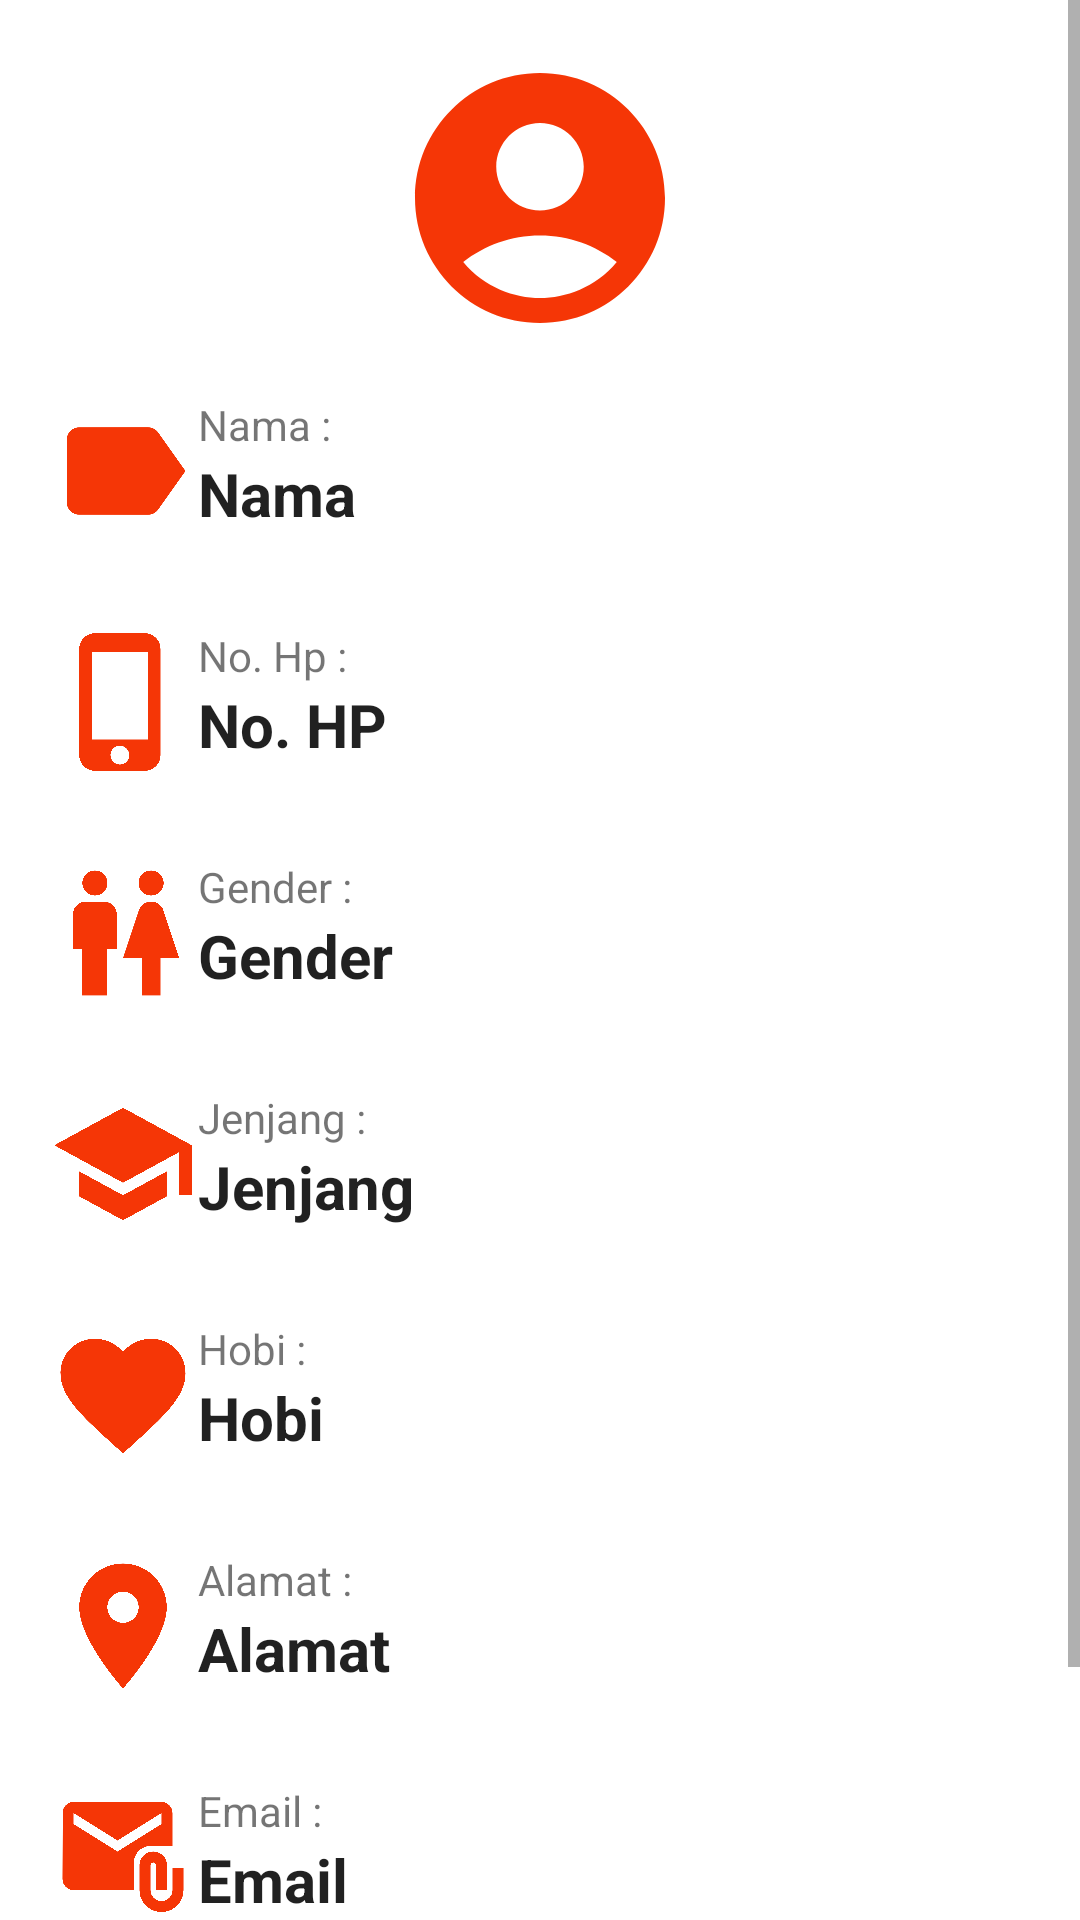

Screen size 1080px×1920px. Icon name, then its center in pixels as (x,y):
account circle: (540,198)
favorite: (123,1396)
label: (126,471)
location on: (123,1625)
phone iphone: (120,702)
school: (123,1164)
